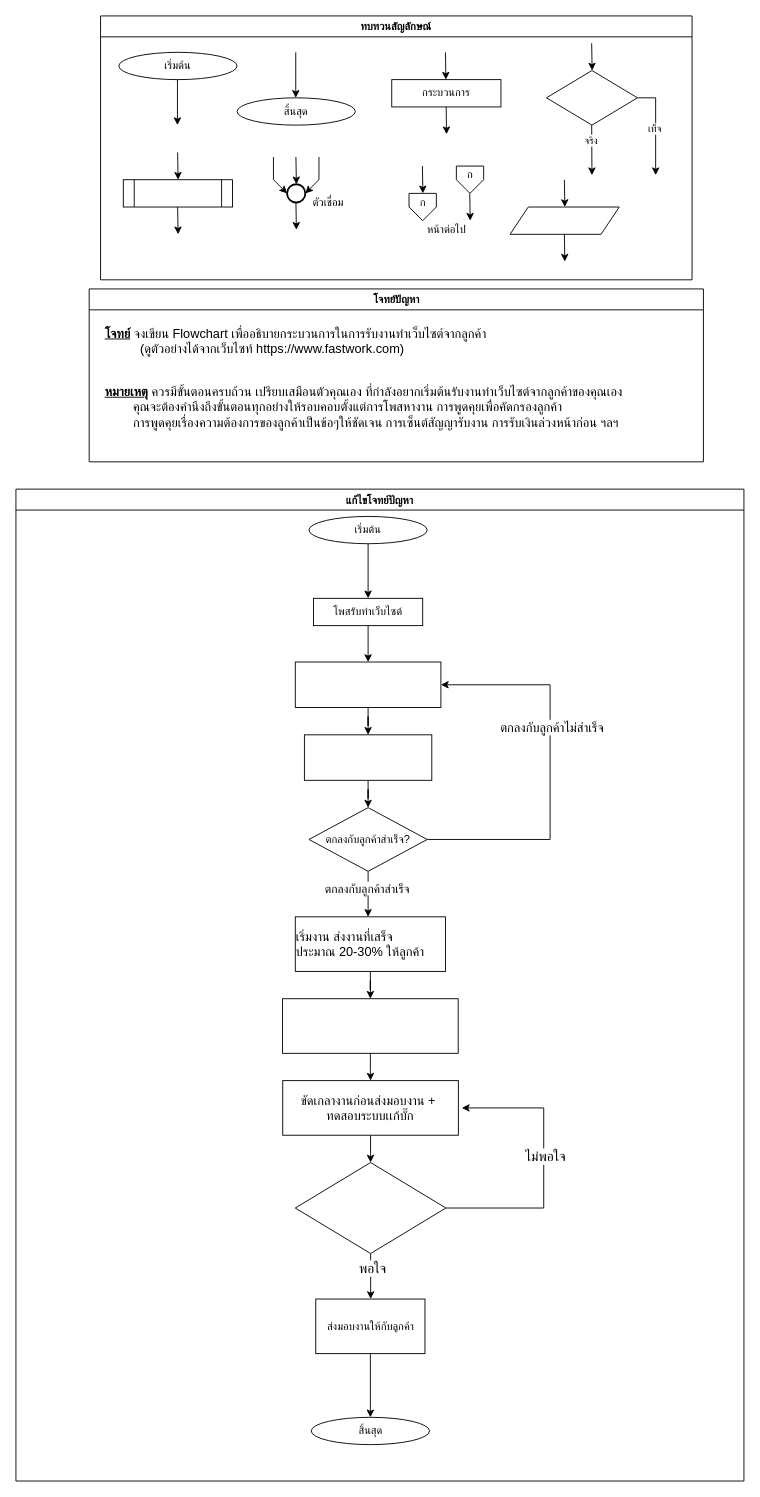
Image size: 760x1497. Some labels were removed from this diagram. Each missing label, with the box of its shape:
ค่อยส่งงานให้ลูกค้าเรื่อยๆจนเสร็จ: (282, 998, 458, 1053)
ตกลงกับลูกค้าเเละส่ง ตัวอย่างงานคร่าวๆให้ลูกค้า: (294, 661, 441, 708)
ประโยคเงื่อนไข: (546, 70, 637, 125)
ฟังก์ชัน/โมดูล: (122, 179, 233, 207)
ลูกค้าพอใจกับงาน?: (294, 1162, 446, 1254)
เซ็นต์สัญญารับงาน การรับเงินล่วงหน้าก่อน: (303, 734, 432, 780)
แสดงผล/รับค่า: (509, 206, 619, 234)
